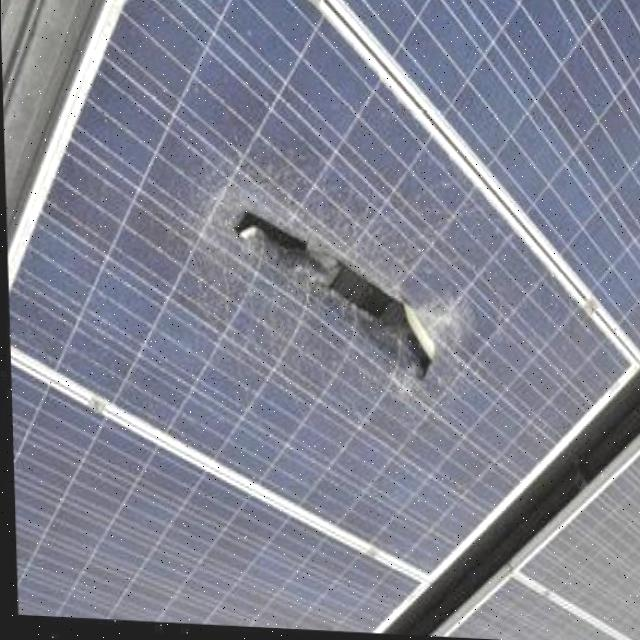Anomaly Solar Panel: (5, 0, 637, 582), (425, 432, 640, 640)
Normal Solar Panel: (326, 0, 640, 359), (7, 373, 421, 637)
Structural Damage: (183, 168, 474, 416)
Surface Contaminant: (440, 448, 640, 640)
